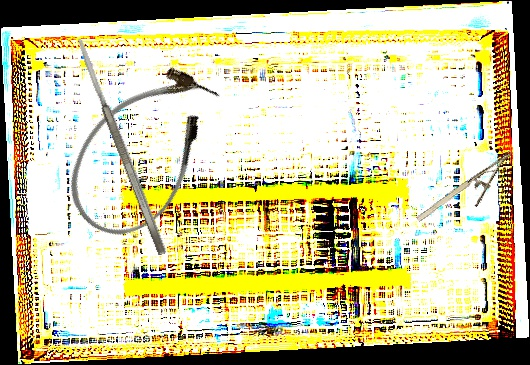Cannula: (45, 44, 241, 258)
Needle Holder: (414, 149, 526, 239)
Spatula Surgical: (73, 35, 169, 257)
